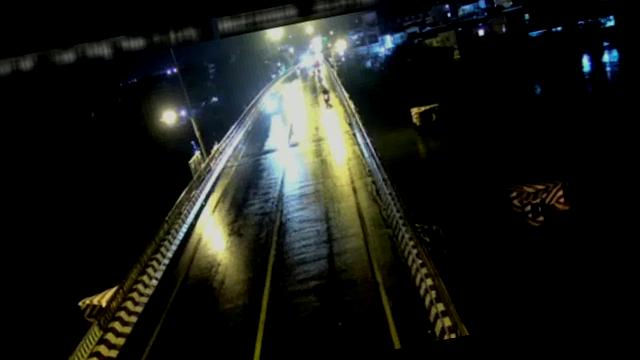Bike: (319, 83, 334, 105)
